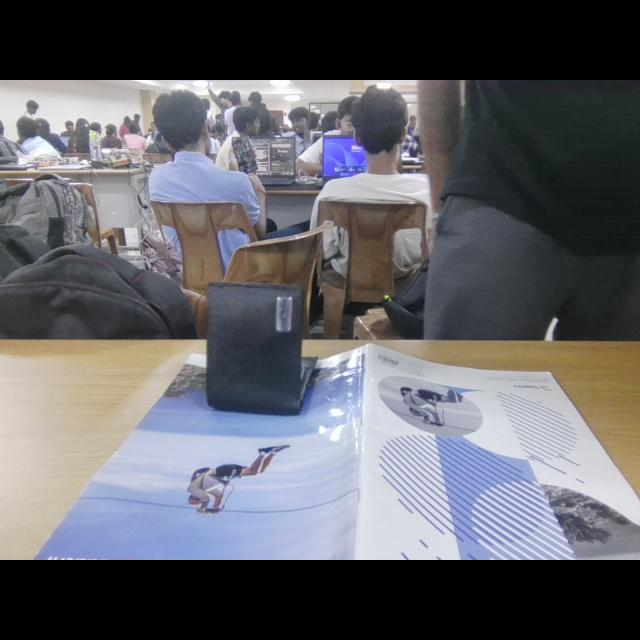wallet: (200, 270, 338, 418)
